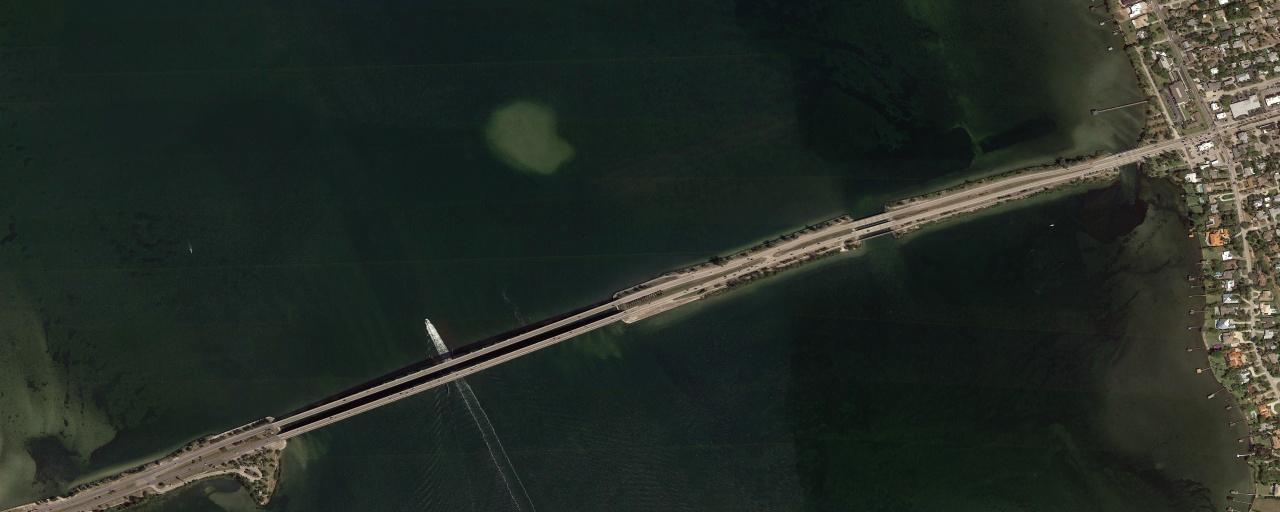ship: (423, 318, 444, 348)
